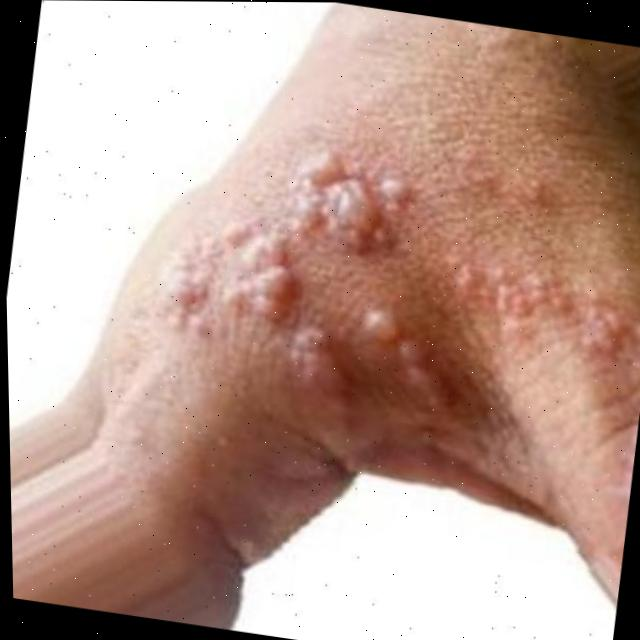Shingles: (147, 123, 422, 365), (436, 249, 640, 360), (351, 297, 471, 416), (282, 318, 374, 408)
